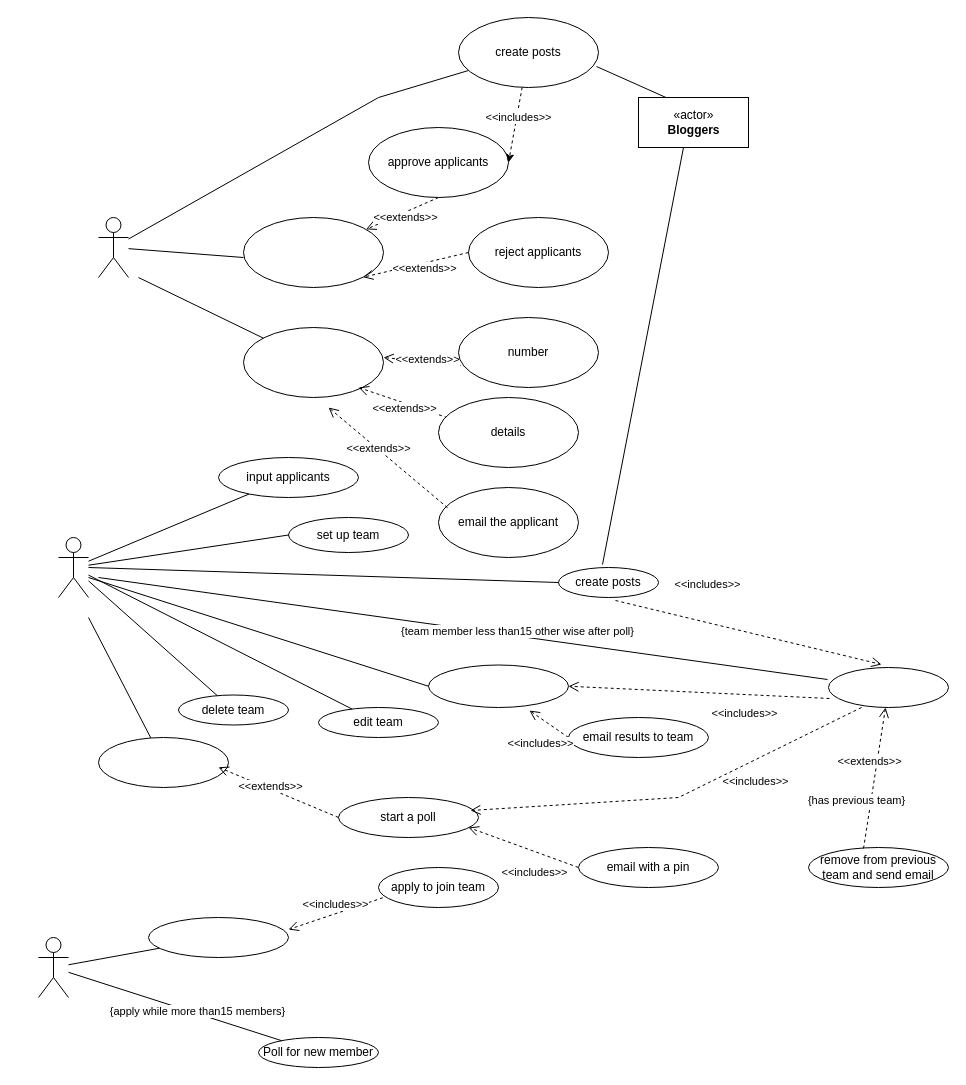
This 966x1085 diagram has some shape labels left out. The centre of each missing label's shape, as x and y in pixels:
"approve application for team" goes at point 888,687.
"Club Manager" goes at point 113,247.
"Club Member" goes at point 53,967.
"Club Secretary" goes at point 73,567.
"create membership" goes at point 313,362.
"review applicants" goes at point 313,252.
"review application for team" goes at point 163,762.
"review poll results" goes at point 498,686.
"view team details" goes at point 218,937.
